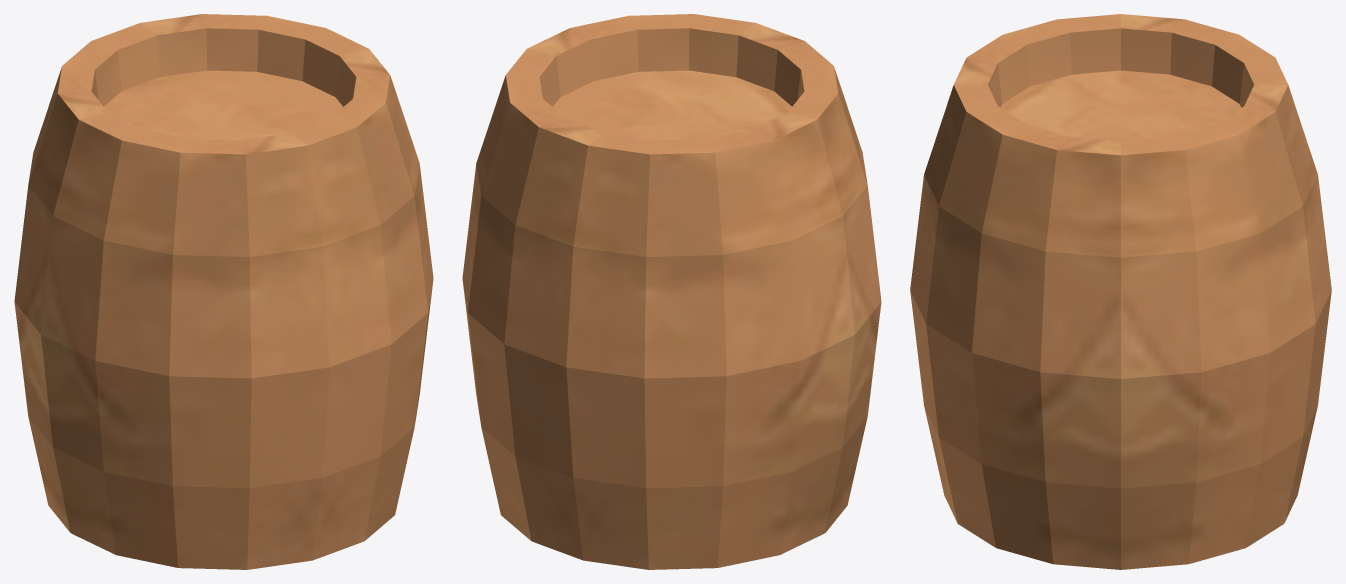
File: Barrel.fbx
The picture shows the model from 3 angles, left to right: view 1: azimuth 30°, elevation 25°; view 2: azimuth 150°, elevation 25°; view 3: azimuth 270°, elevation 25°; orthographic projection.
Parts seen in each view (by area): view 1: Barrel; view 2: Barrel; view 3: Barrel.
Part boxes in pixels (box(x1,y1,x2,y2)): Barrel: box(14, 14, 433, 569); Barrel: box(462, 14, 881, 569); Barrel: box(910, 14, 1331, 569).
Bounding box in the file's own units: 0.9339 × 1 × 0.9339.
